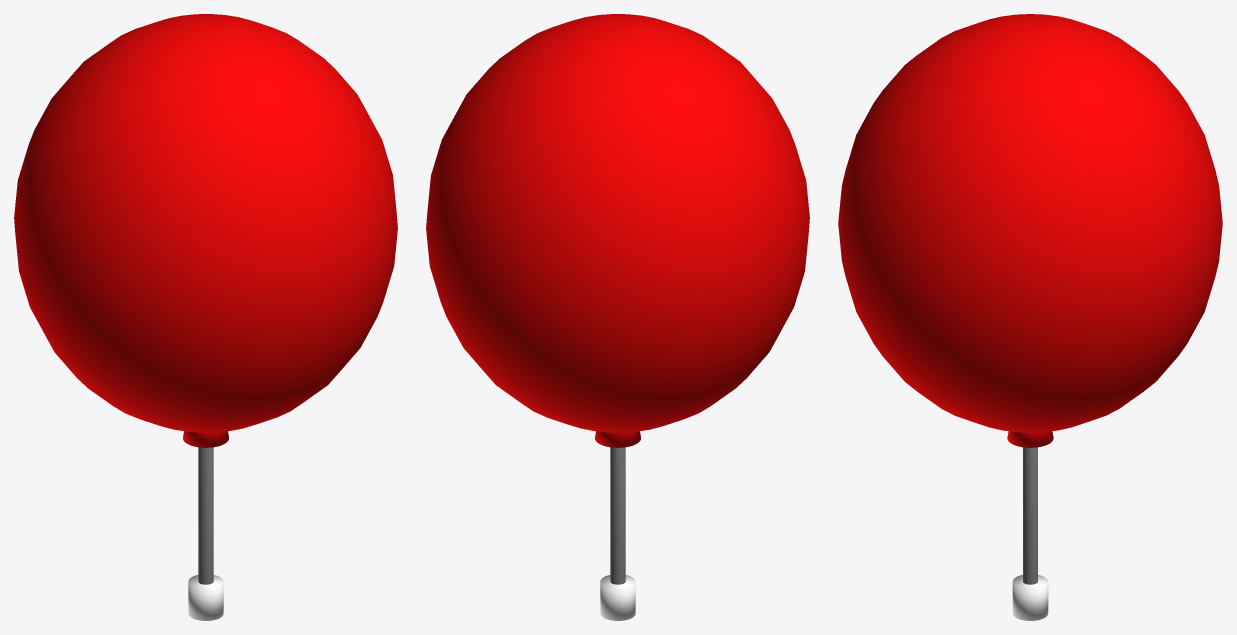
File: Balloon_Plus.fbx
3 views of the same model, side by side, from view 1: azimuth 30°, elevation 25°; view 2: azimuth 150°, elevation 25°; view 3: azimuth 270°, elevation 25° (orthographic).
Visible parts, largest first — view 1: 球, 円柱, 円柱.002, 円柱.001; view 2: 球, 円柱, 円柱.002, 円柱.001; view 3: 球, 円柱, 円柱.002, 円柱.001.
Part boxes in pixels (left/top/right/bottom): 球: left=14, top=14, right=397, bottom=432; 円柱: left=198, top=447, right=213, bottom=584; 円柱.002: left=188, top=575, right=223, bottom=620; 円柱.001: left=183, top=431, right=228, bottom=447; 球: left=426, top=14, right=809, bottom=432; 円柱: left=610, top=447, right=625, bottom=584; 円柱.002: left=600, top=575, right=635, bottom=620; 円柱.001: left=595, top=431, right=640, bottom=447; 球: left=838, top=14, right=1222, bottom=432; 円柱: left=1023, top=447, right=1037, bottom=584; 円柱.002: left=1012, top=575, right=1048, bottom=620; 円柱.001: left=1007, top=431, right=1053, bottom=447.
Size of the model in its own units: 200 by 335 by 200.
3 materials, 3 textured.
